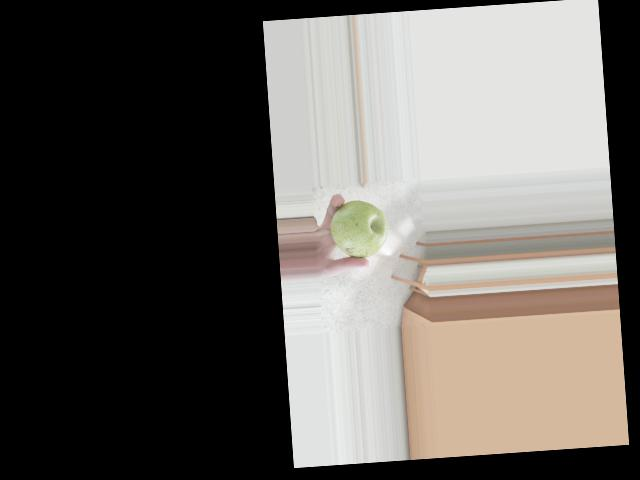apple: (327, 195, 390, 260)
